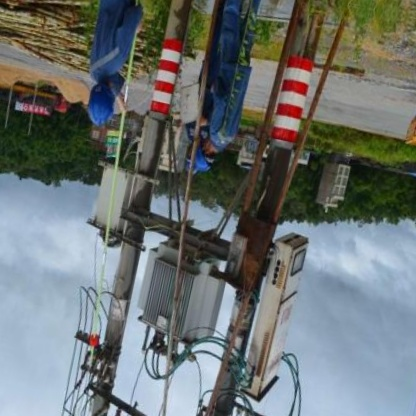blue: (81, 78, 123, 132), (190, 141, 217, 179)
